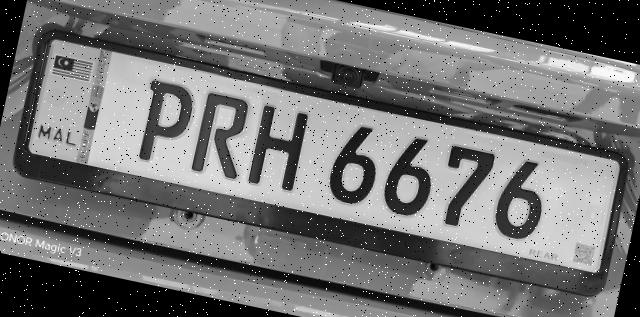License_Plate: (9, 25, 635, 302)
car: (1, 1, 640, 317)
